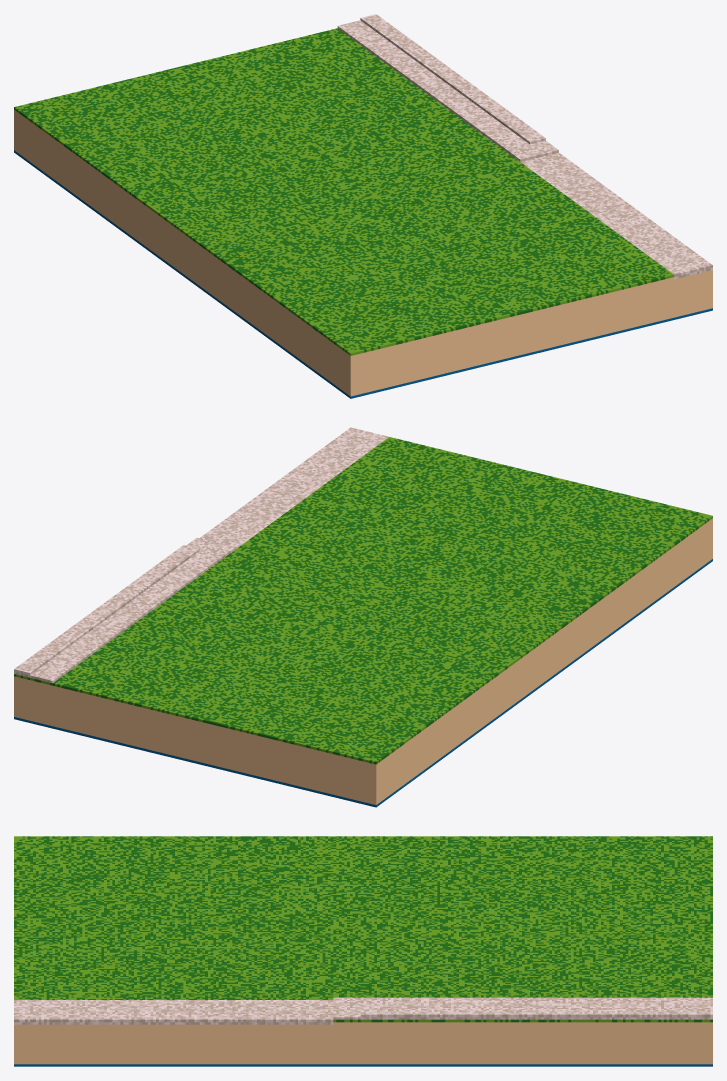
Rendered from castelloVillafranca-35.obj.
The picture shows the model from 3 angles, top to bottom: view 1: azimuth 30°, elevation 25°; view 2: azimuth 150°, elevation 25°; view 3: azimuth 270°, elevation 25°; orthographic projection. The views are drawn at different scales.
Bounding box in the file's own units: 15.9 × 2.1 × 25.6.
Materials: 1 (1 with a texture image).
